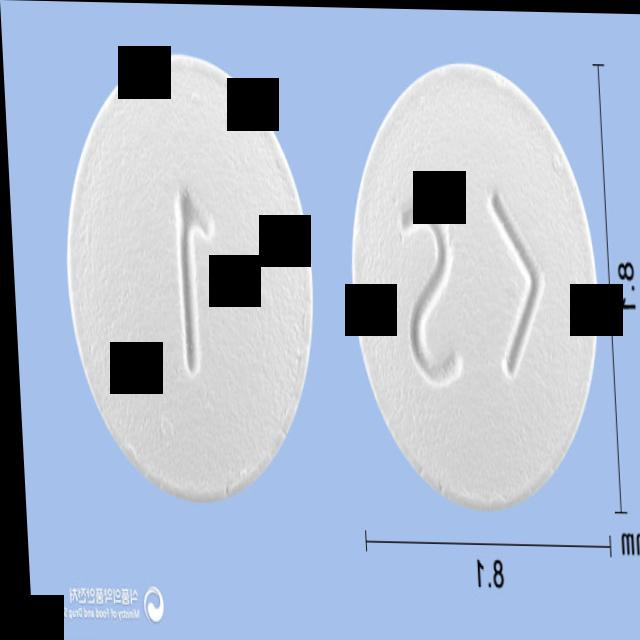Levofxa: (338, 55, 604, 515), (55, 48, 319, 504)
